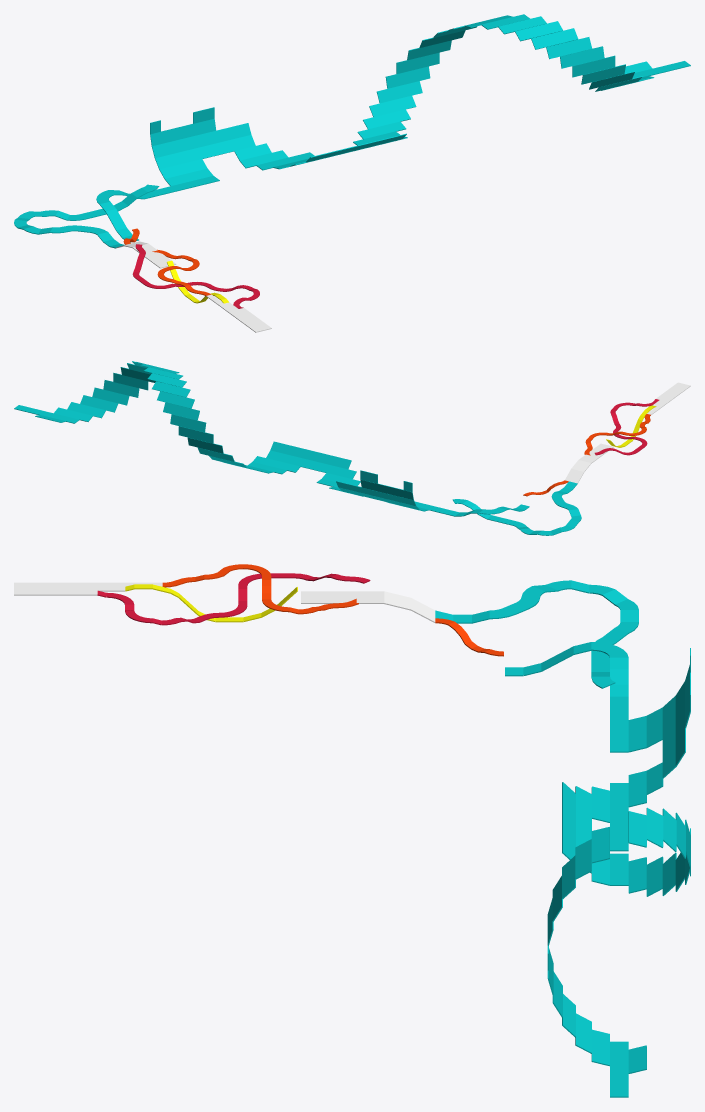
File: Hard Level.fbx
3 renders of one model, top to bottom at view 1: azimuth 30°, elevation 25°; view 2: azimuth 150°, elevation 25°; view 3: azimuth 270°, elevation 25°, orthographic. The views are drawn at different scales.
Visible parts, largest first — view 1: Union; view 2: Union; view 3: Union.
Boxes of the visible parts, left/top/right/bottom form: Union: left=14, top=14, right=690, bottom=332; Union: left=14, top=361, right=690, bottom=535; Union: left=14, top=564, right=690, bottom=1097.
Size of the model in its own units: 509 by 65.77 by 292.
